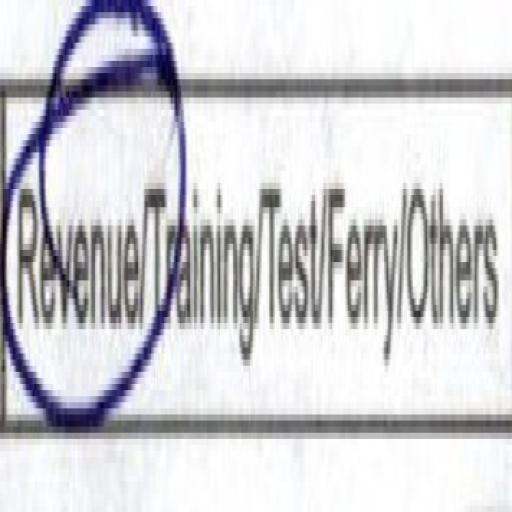check: (0, 16, 151, 512)
